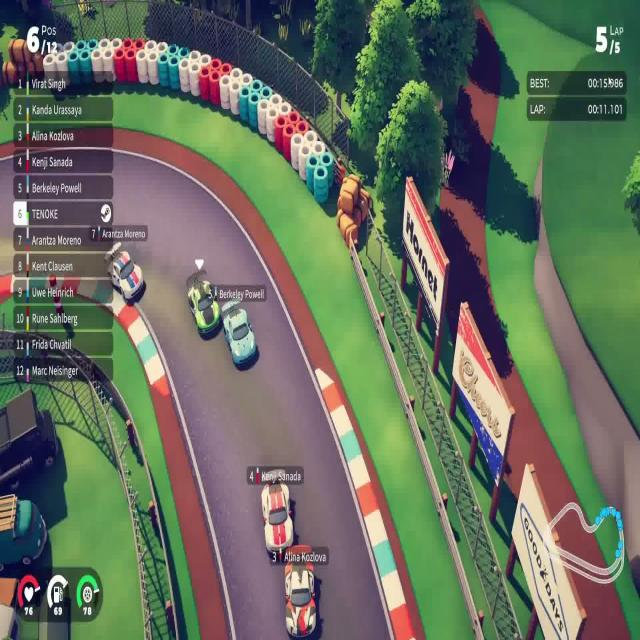car: (283, 541, 317, 637), (104, 241, 145, 304), (220, 299, 257, 368), (260, 480, 294, 553), (186, 274, 221, 338)
